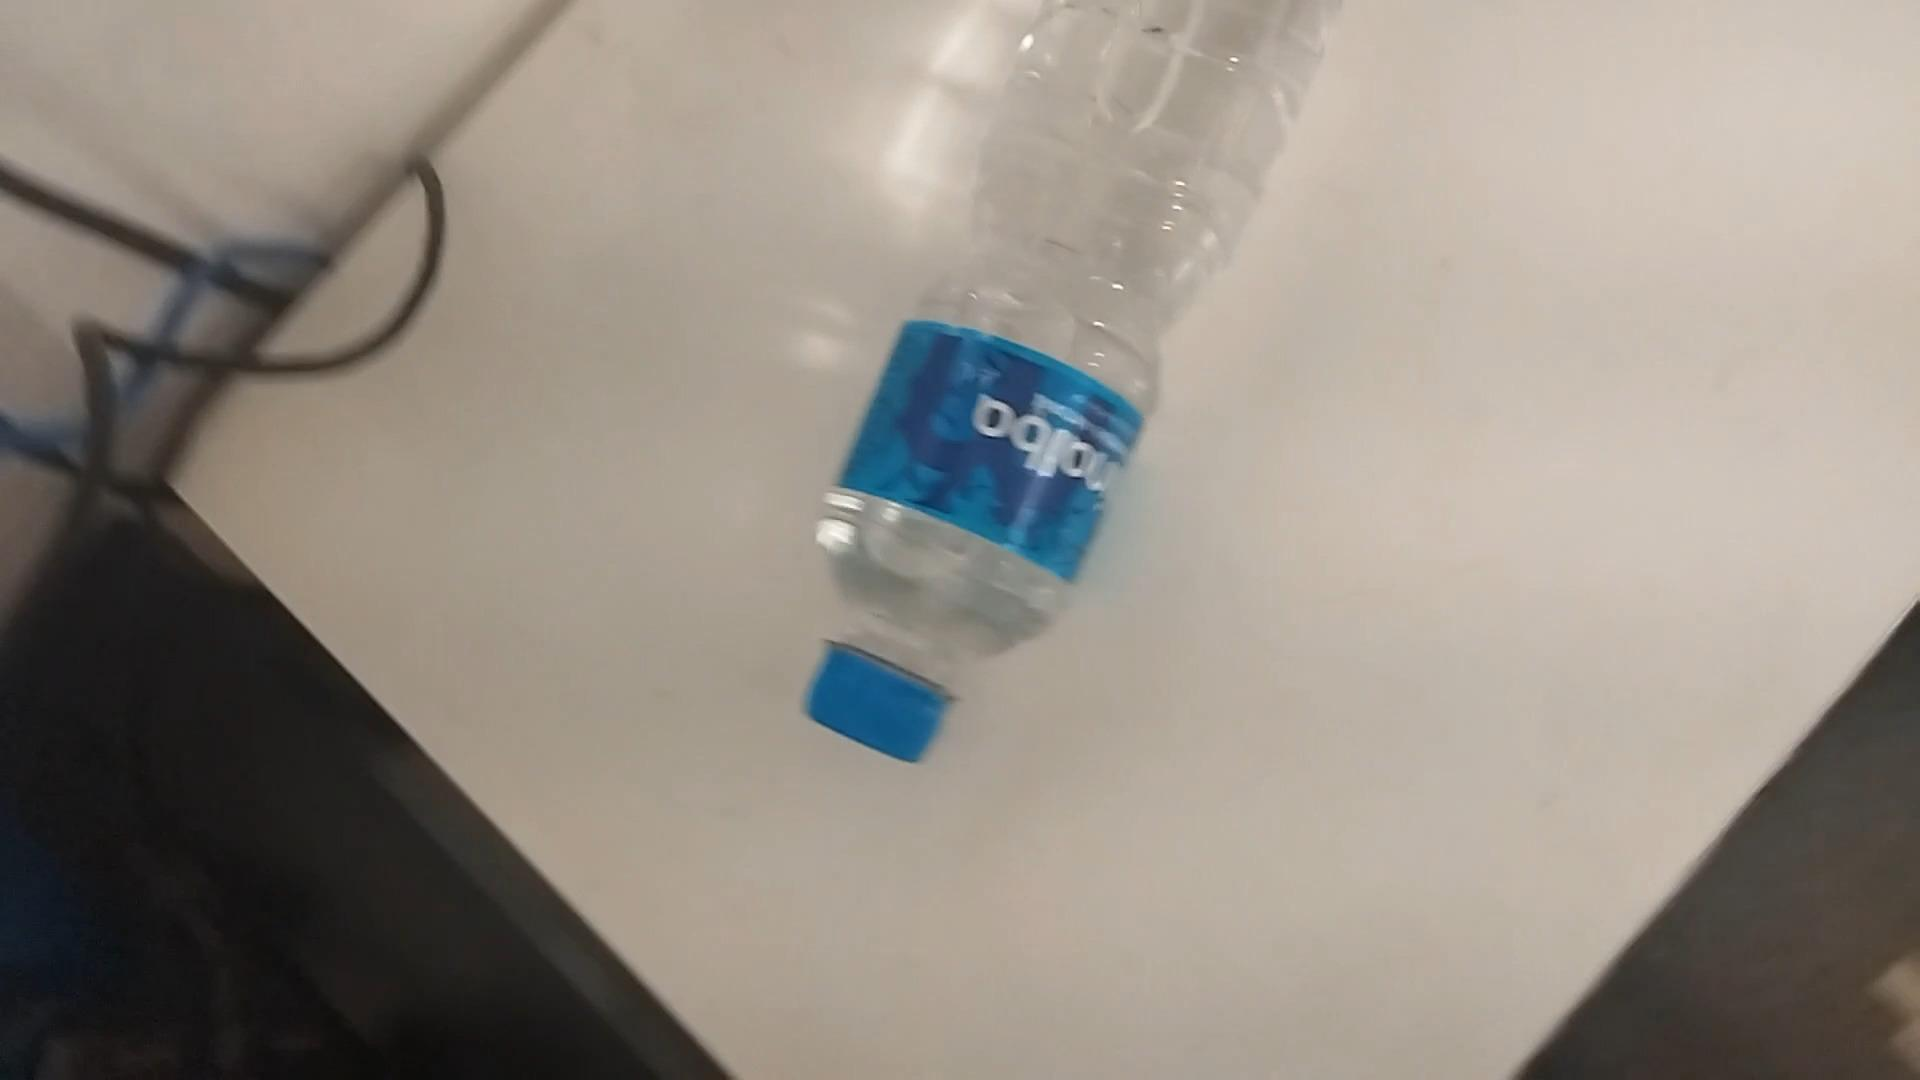agua: (799, 4, 1357, 770)
